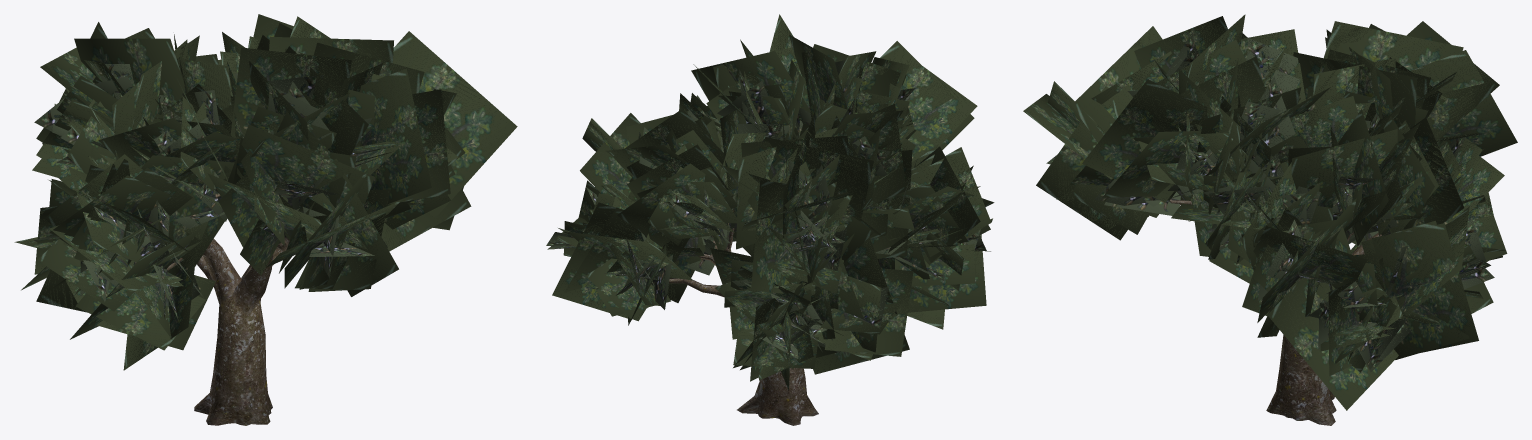
Rendered from BigTree.obj.
3 views of the same model, side by side, from view 1: azimuth 30°, elevation 25°; view 2: azimuth 150°, elevation 25°; view 3: azimuth 270°, elevation 25° (orthographic). The views are drawn at different scales.
Visible parts, largest first — view 1: Leaves, Bark; view 2: Leaves, Bark; view 3: Leaves, Bark.
Boxes of the visible parts, x1,y1,x2,y2 form: Leaves: (14,14,517,370); Bark: (145,154,356,425); Leaves: (546,14,994,390); Bark: (669,228,818,425); Leaves: (1023,14,1517,410); Bark: (1169,199,1381,425).
Size of the model in its own units: 13.49 by 10.55 by 12.47.
Materials: 2 (2 with a texture image).
